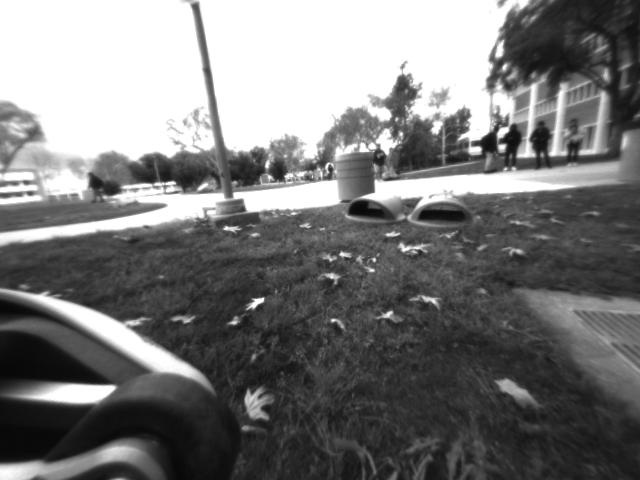trashcan: (330, 146, 381, 203)
